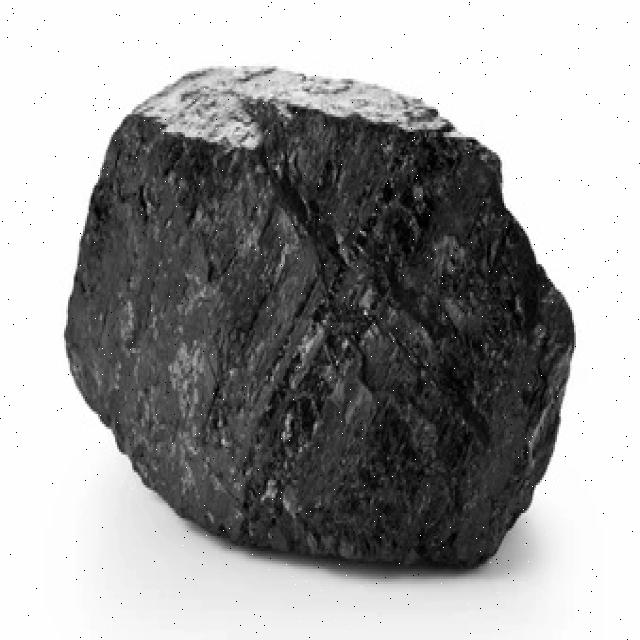Sedimentary: (70, 53, 574, 574)
